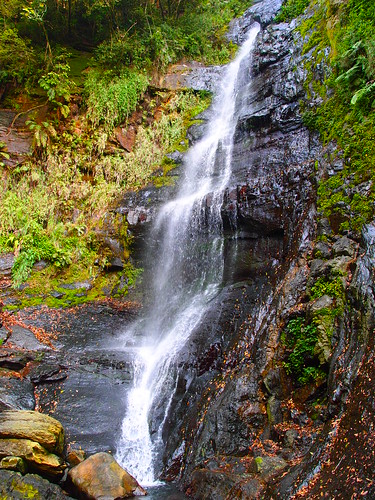wufengciWaterfall: (102, 13, 285, 459)
